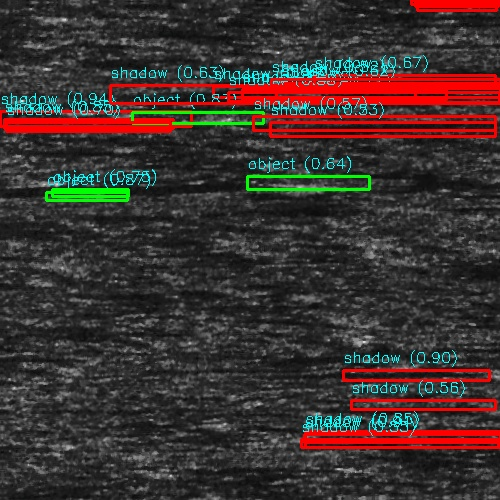rock: (199, 107, 418, 128), (174, 98, 237, 109), (0, 405, 73, 412), (413, 176, 486, 181), (369, 188, 442, 193), (412, 105, 475, 110), (0, 89, 19, 104), (0, 371, 35, 378), (434, 11, 465, 16), (0, 119, 20, 126), (71, 97, 112, 100)
shadow: (0, 89, 317, 104), (309, 107, 500, 128), (0, 83, 276, 96), (0, 75, 181, 84), (0, 119, 224, 126), (0, 436, 195, 443), (206, 98, 328, 109), (0, 371, 166, 378), (217, 184, 500, 187), (21, 405, 140, 412), (0, 202, 71, 213), (92, 97, 329, 100), (0, 0, 86, 6), (406, 188, 500, 193), (444, 105, 500, 110), (450, 176, 500, 181), (450, 11, 500, 16), (439, 218, 500, 221)
